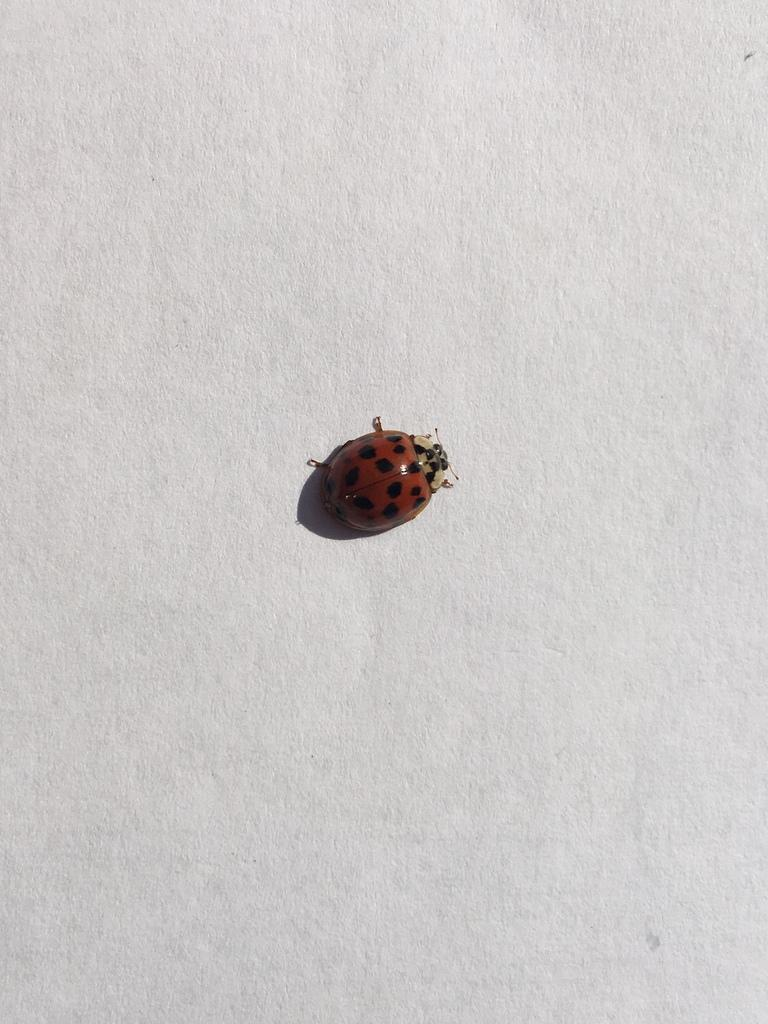ladybug: (306, 414, 466, 539)
